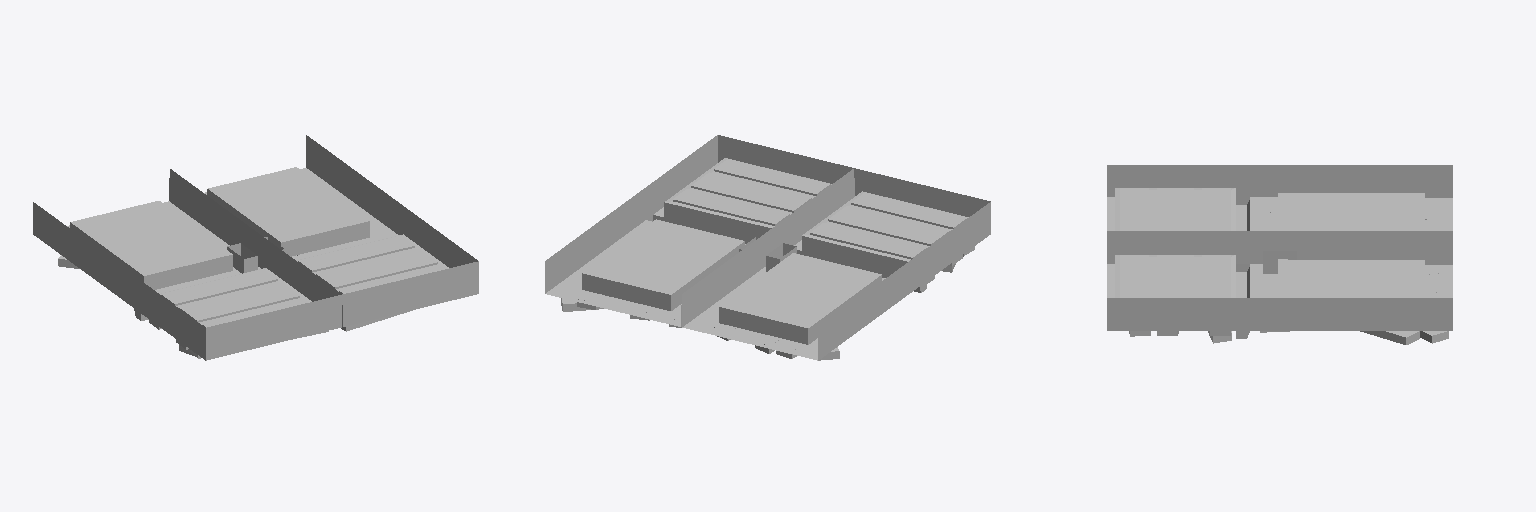
Rendered from FrontDoor.obj.
3 views of the same model, side by side, from view 1: azimuth 30°, elevation 25°; view 2: azimuth 150°, elevation 25°; view 3: azimuth 270°, elevation 25° (orthographic).
Visible parts, largest first — view 1: Front_Door; view 2: Front_Door; view 3: Front_Door.
Part boxes in pixels (bbox=[...]): Front_Door: bbox=[33, 135, 478, 360]; Front_Door: bbox=[545, 135, 990, 360]; Front_Door: bbox=[1107, 165, 1452, 344].
Bounding box in the file's own units: 17.37 × 3 × 19.